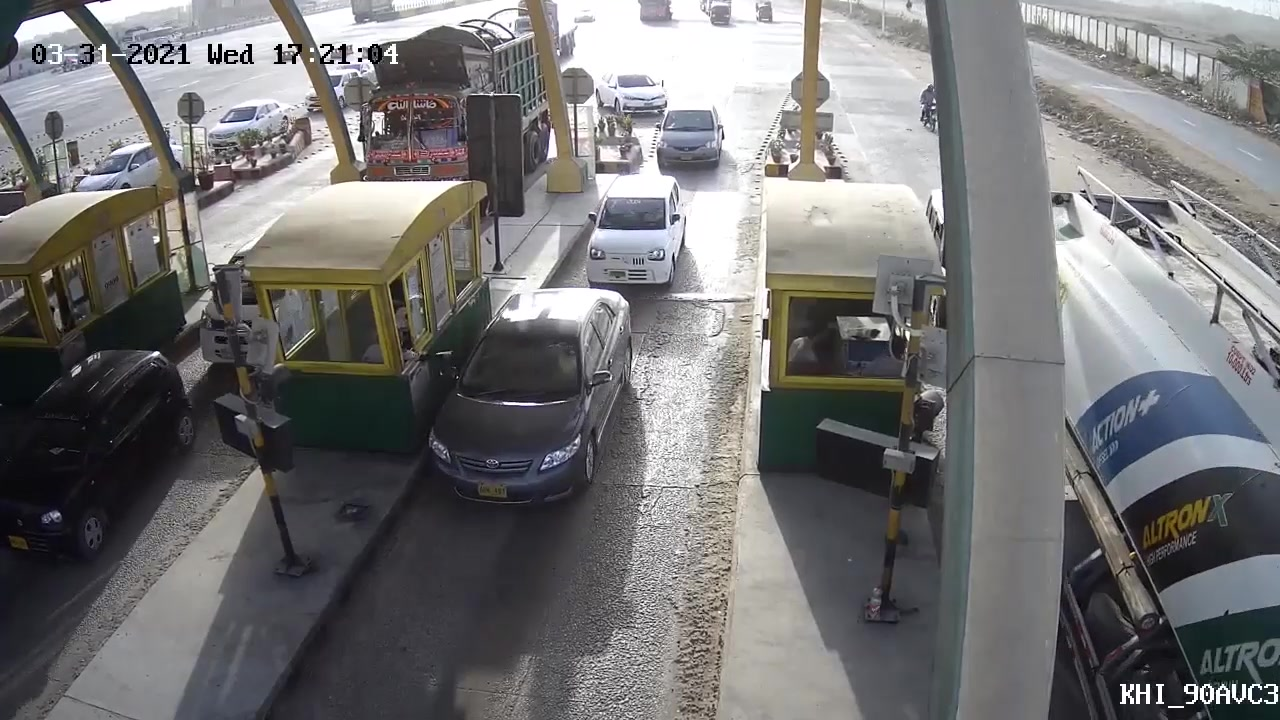F1: (424, 286, 630, 498), (581, 169, 690, 288)
